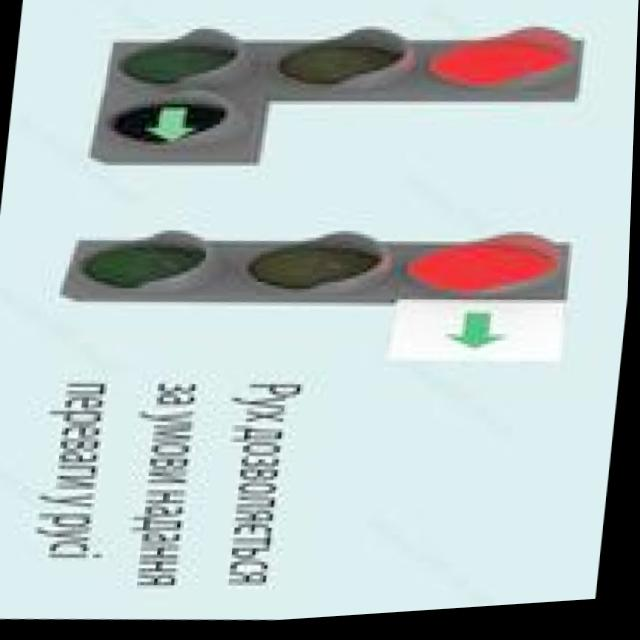red_light: (421, 0, 604, 156)
